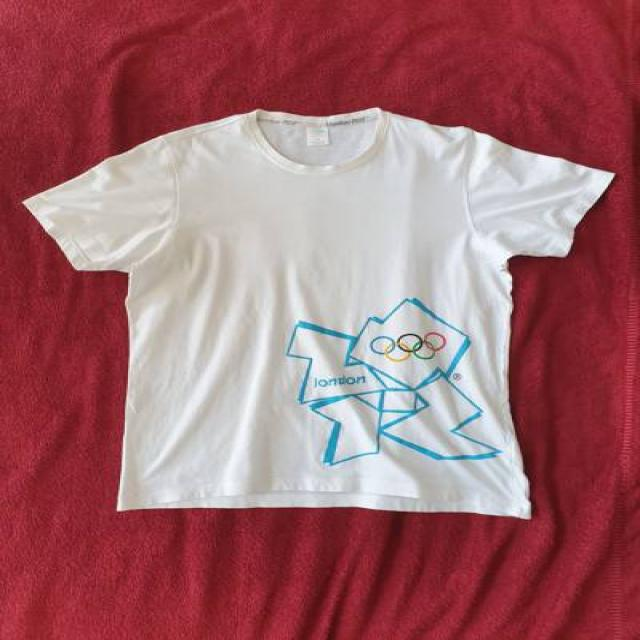shirt: (17, 108, 615, 520)
